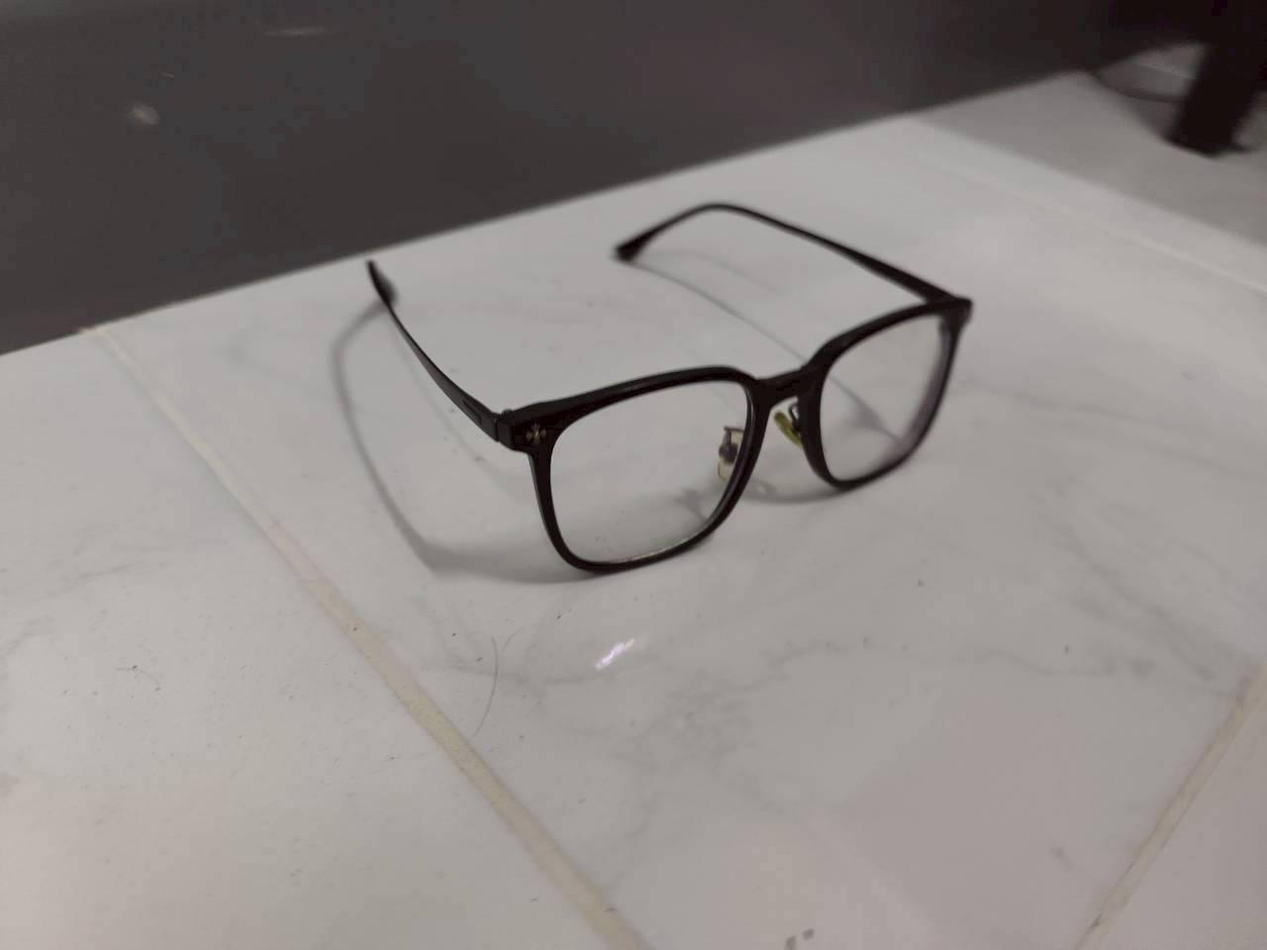glasses: (348, 210, 1005, 584)
